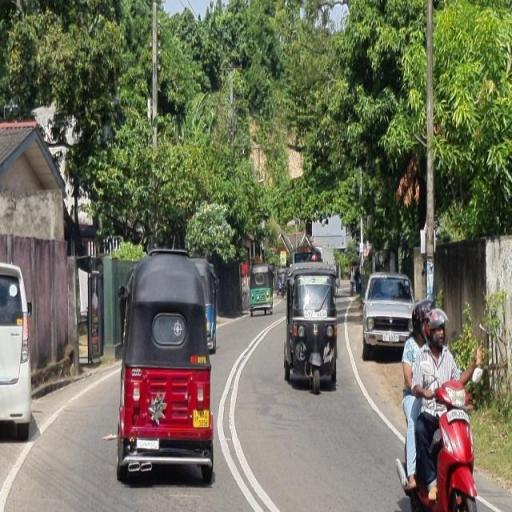double_white_line: (216, 313, 277, 512), (478, 496, 499, 512)
